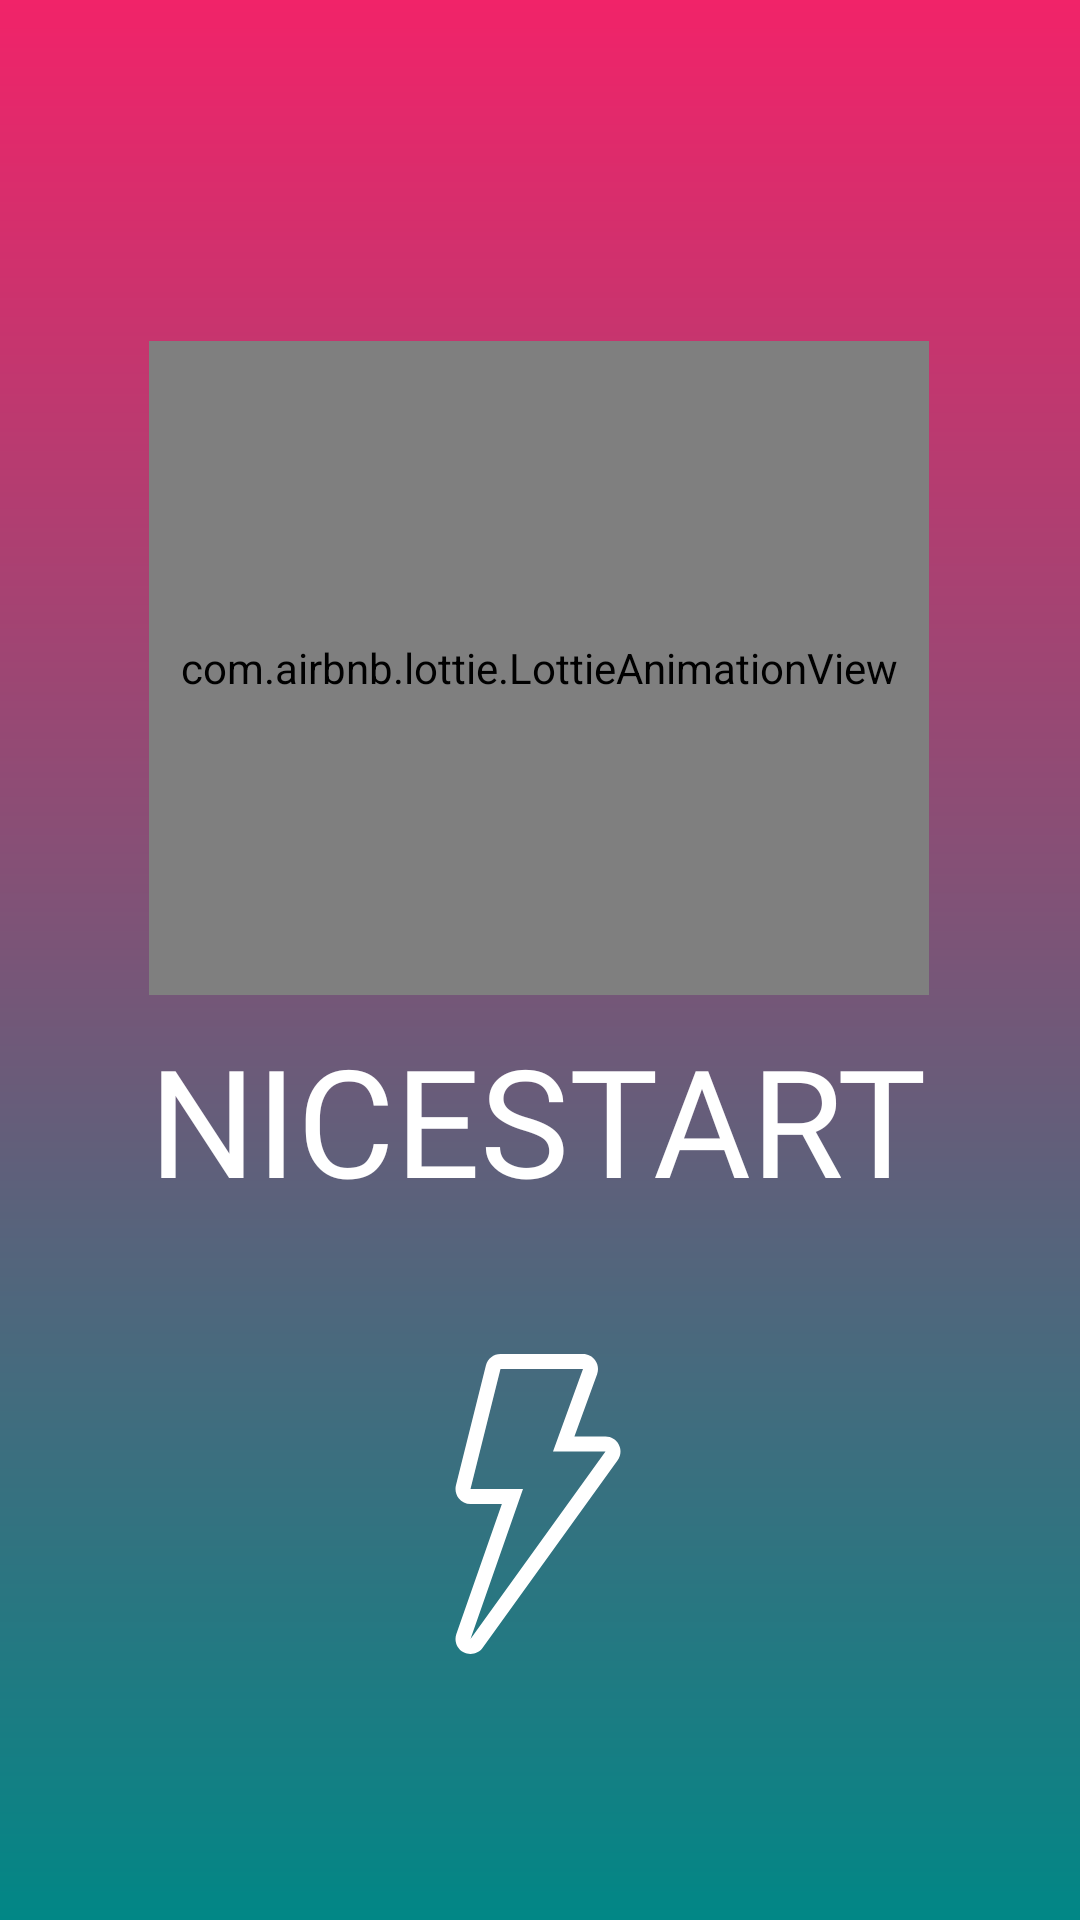

Named icons in this screenshot (1080*1920) and their centers, [x,y]:
thunder: [538,1504]
